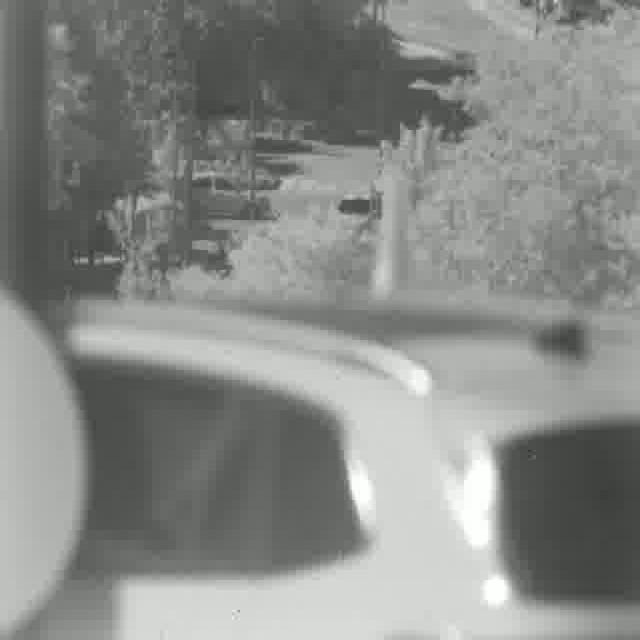Car: (8, 309, 638, 640), (337, 186, 381, 220)
